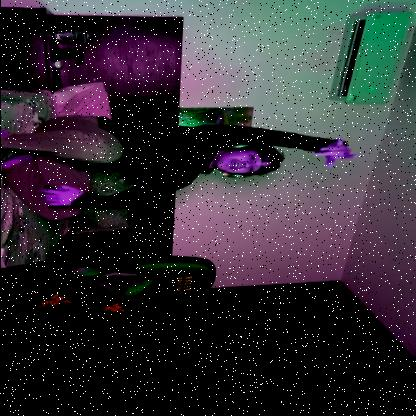streamer: (0, 106, 361, 223)
